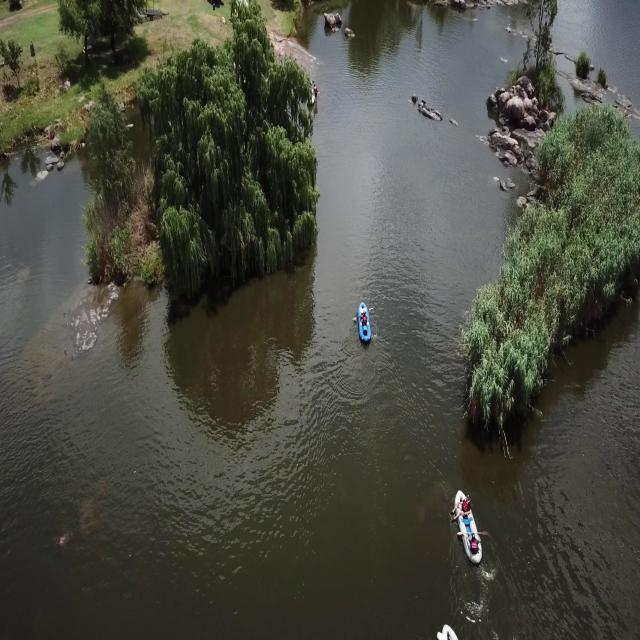kayak: (449, 483, 488, 566), (351, 296, 374, 348)
